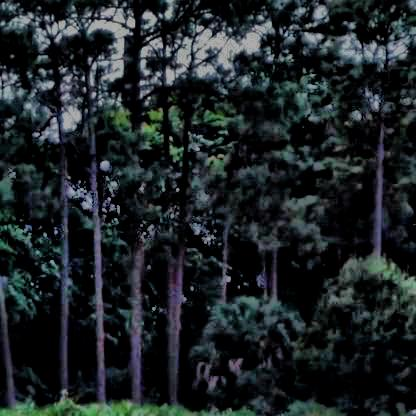golfball: (98, 159, 107, 169)
